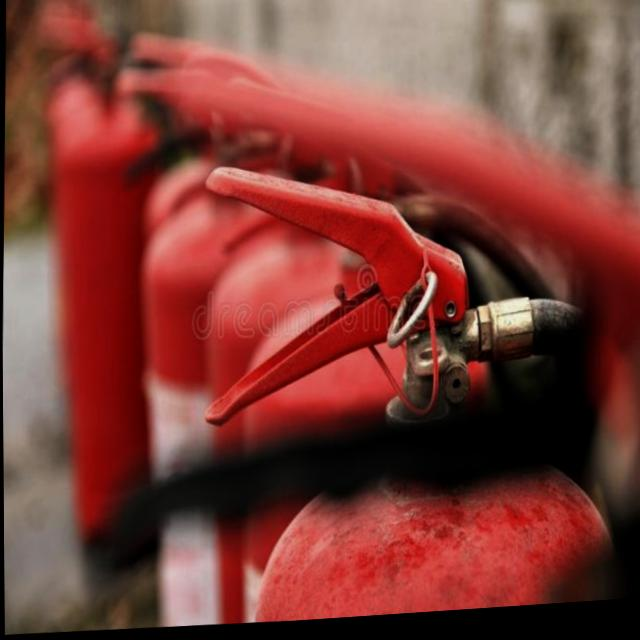FireExtinguisher: (190, 134, 640, 630)
